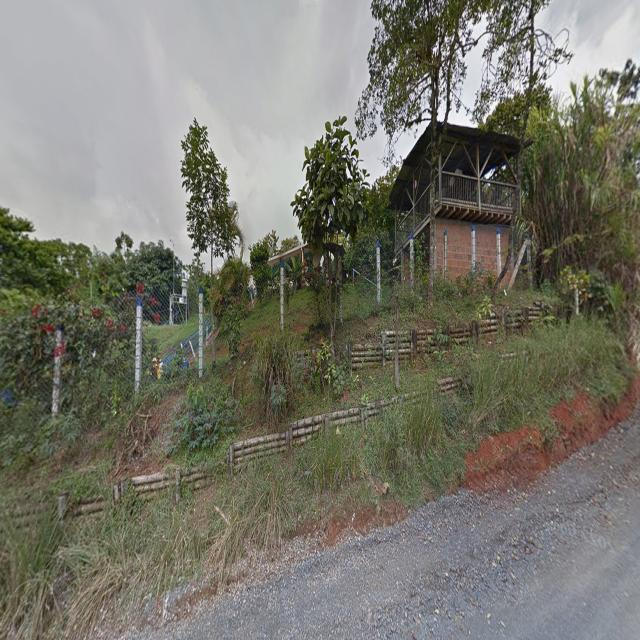Fachada: (390, 123, 524, 291)
